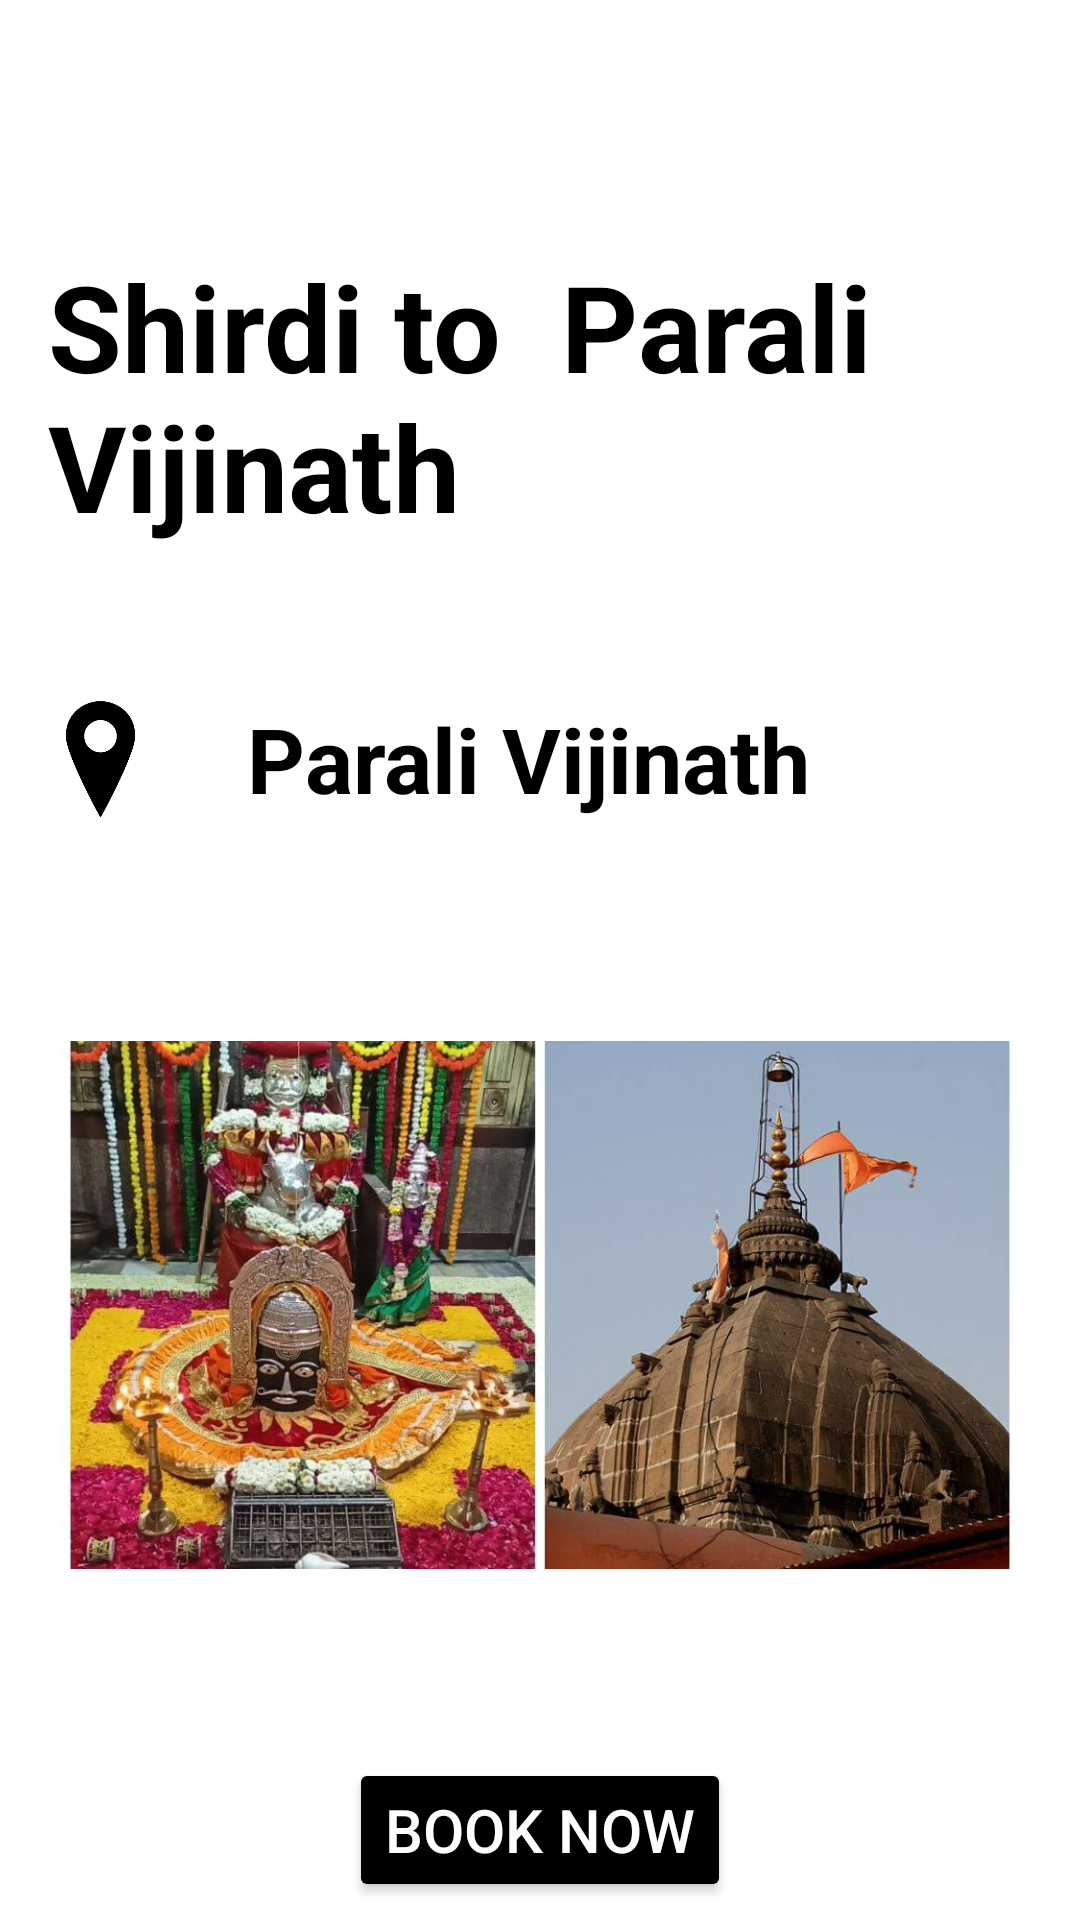

Icons on this 1080 x 1920 Android screen, each with its box as (x1, y1, x2, y2):
location: (66, 701, 135, 817)
